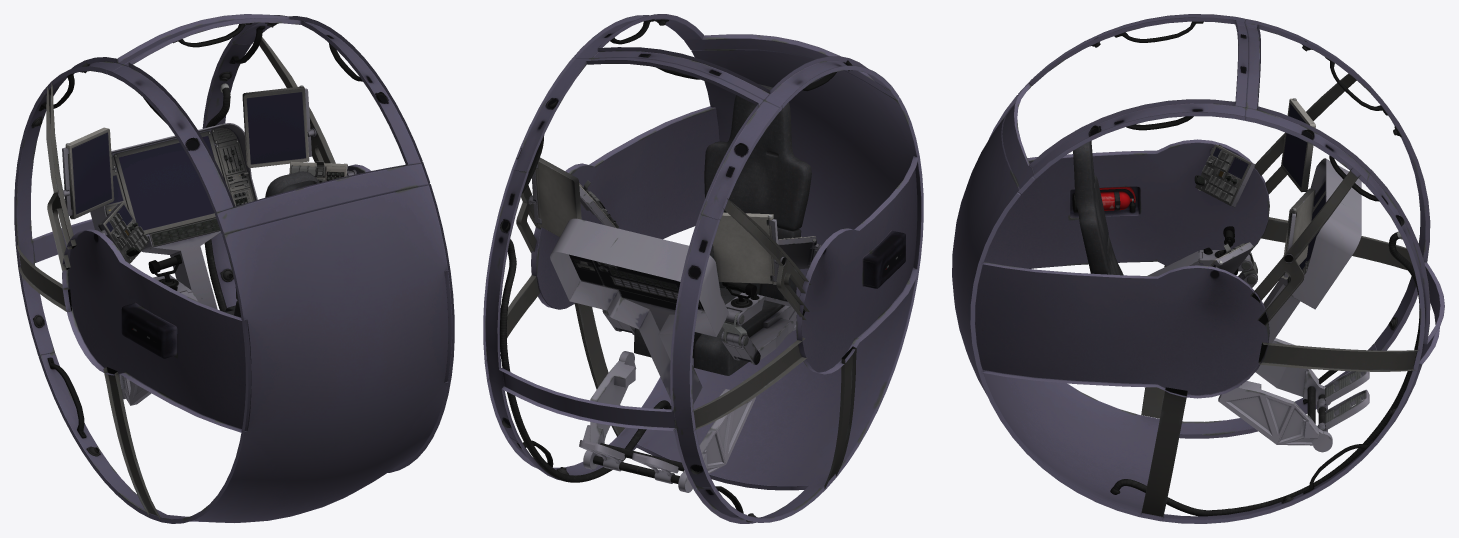
The model's file is default_cockpit.dae.
The picture shows the model from 3 angles, left to right: view 1: azimuth 30°, elevation 25°; view 2: azimuth 150°, elevation 25°; view 3: azimuth 270°, elevation 25°; orthographic projection. The views are drawn at different scales.
Parts seen in each view (by area): view 1: Frame.001, Frame_axis.001, screen_center.001, Frame_spoke.003, screen_right.001, Dashboard_detailed.005, screen_left.001, Monitor-MFD.022, Dashboard_detailed.009, Frame_spoke.002, Panel-hinged.003, Panel-hinged.004 (+7 smaller); view 2: Frame.001, Frame_axis.001, Dashboard_detailed.005, cushion_up_A.005, Seat_legsupport_frame.001, Frame_spoke.003, Frame_spoke.002, Panel-hinged.004, Seat_bottom.001, Panel-hinged.003, tube_circle.004, Seat.022 (+4 smaller); view 3: Frame_axis.001, Frame.001, Frame_spoke.003, Seat_legsupport_frame.001, Dashboard_detailed.005, Frame_spoke.002, cushion_up_A.005, tube_circle.004, Monitor-MFD.022, Panel-hinged.003, screen_left.001, Panel-hinged.004 (+2 smaller).
Part boxes in pixels (x1,y1,x2,y2): Frame.001: (14, 14, 454, 523); Frame_axis.001: (62, 164, 448, 432); screen_center.001: (119, 136, 214, 230); Frame_spoke.003: (46, 37, 335, 519); screen_right.001: (246, 92, 305, 164); Dashboard_detailed.005: (90, 123, 257, 309); screen_left.001: (72, 132, 111, 214); Monitor-MFD.022: (103, 201, 149, 263); Dashboard_detailed.009: (113, 131, 223, 234); Frame_spoke.002: (16, 245, 71, 311); Panel-hinged.003: (242, 85, 309, 167); Panel-hinged.004: (65, 127, 114, 219); Frame.001: (483, 14, 923, 523); Frame_axis.001: (531, 106, 918, 374); Dashboard_detailed.005: (550, 218, 728, 404); cushion_up_A.005: (704, 84, 811, 230); Seat_legsupport_frame.001: (579, 351, 755, 492); Frame_spoke.003: (516, 148, 856, 488); Frame_spoke.002: (485, 275, 806, 430); Panel-hinged.004: (713, 212, 776, 284); Seat_bottom.001: (634, 287, 783, 375); Panel-hinged.003: (535, 157, 581, 236); tube_circle.004: (500, 239, 671, 482); Seat.022: (616, 318, 794, 364); Frame_axis.001: (975, 139, 1269, 398); Frame.001: (952, 14, 1444, 523); Frame_spoke.003: (1141, 73, 1360, 517); Seat_legsupport_frame.001: (1218, 338, 1369, 452); Dashboard_detailed.005: (1241, 158, 1361, 385); Frame_spoke.002: (1258, 217, 1419, 371); cushion_up_A.005: (1073, 141, 1108, 274); tube_circle.004: (1110, 231, 1425, 516); Monitor-MFD.022: (1194, 144, 1251, 205); Panel-hinged.003: (1281, 188, 1315, 279); screen_left.001: (1282, 103, 1307, 187); Panel-hinged.004: (1281, 98, 1315, 192).
Size of the model in its own units: 1.29 by 2.01 by 2.02.
